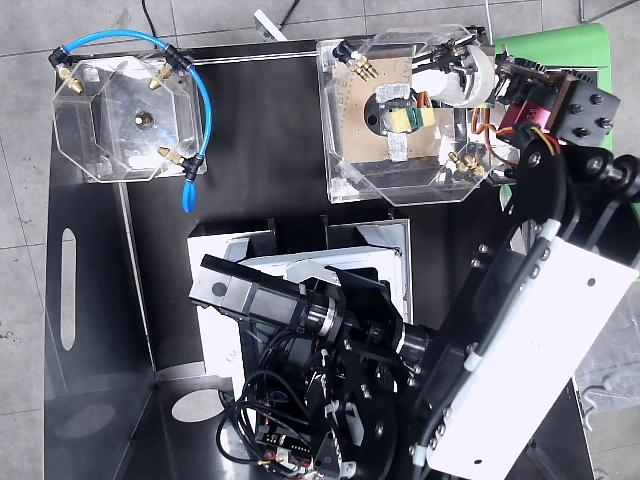cup: (412, 45, 495, 108)
